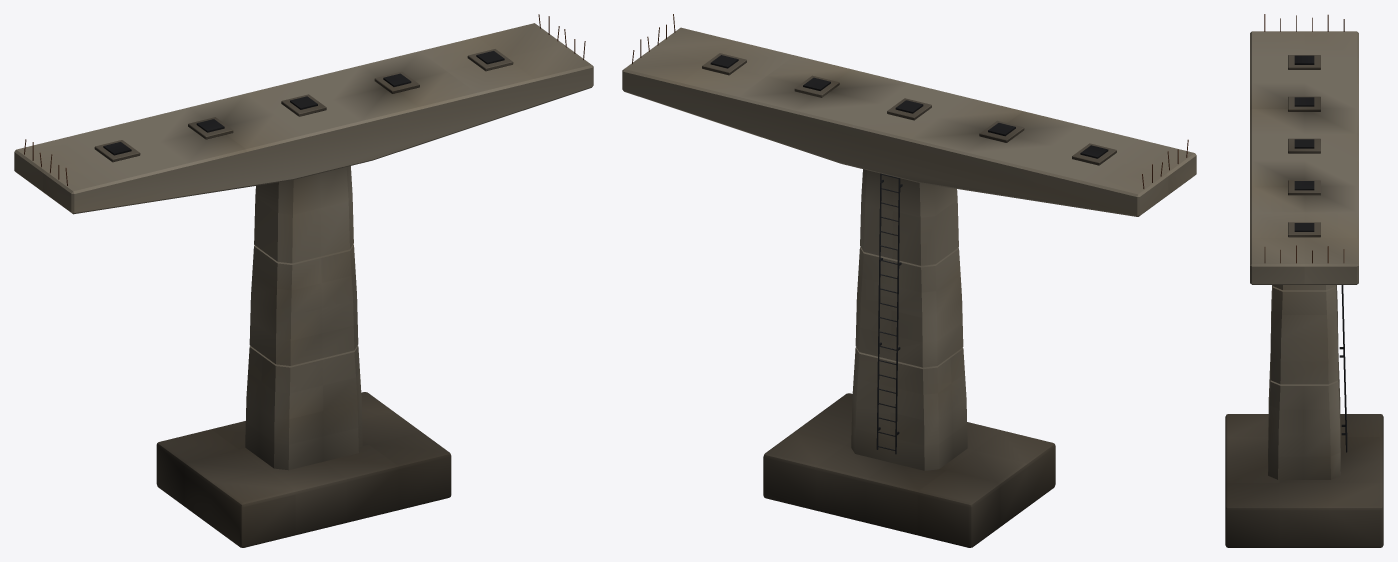
File: bridge_pier.glb
The picture shows the model from 3 angles, left to right: view 1: azimuth 30°, elevation 25°; view 2: azimuth 150°, elevation 25°; view 3: azimuth 270°, elevation 25°; orthographic projection. The views are drawn at different scales.
Parts seen in each view (by area): view 1: concrete, concrete_dark, rubber; view 2: concrete, concrete_dark, metal_dark, rubber; view 3: concrete, concrete_dark, rubber, metal_dark, rebar.
Boxes of the visible parts, left/top/right/bottom form: concrete: left=14, top=23, right=593, bottom=470; concrete_dark: left=94, top=49, right=513, bottom=547; rubber: left=103, top=51, right=504, bottom=155; concrete: left=622, top=27, right=1196, bottom=470; concrete_dark: left=702, top=53, right=1116, bottom=547; metal_dark: left=876, top=173, right=902, bottom=454; rubber: left=710, top=55, right=1108, bottom=158; concrete: left=1250, top=31, right=1358, bottom=479; concrete_dark: left=1225, top=55, right=1383, bottom=547; rubber: left=1294, top=55, right=1314, bottom=231; metal_dark: left=1339, top=285, right=1347, bottom=452; rebar: left=1264, top=14, right=1344, bottom=263.
Size of what is drawn, in the model's own units: 16.8 by 12.42 by 4.8.
